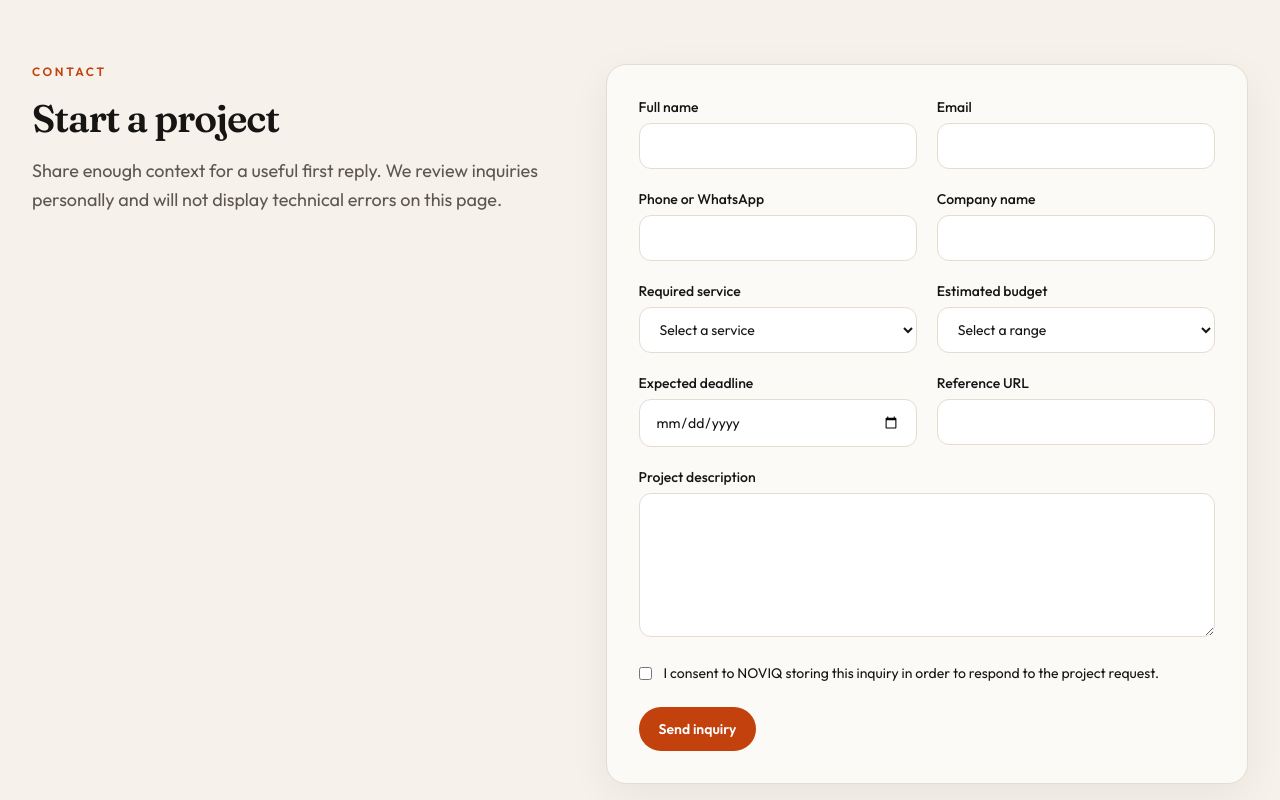
Test: Contact form validation › requires a project description and consent
The width and height of the screenshot is (1280, 800).
Click the button "Send inquiry": {"x": 698, "y": 729} [639,707,756,751]
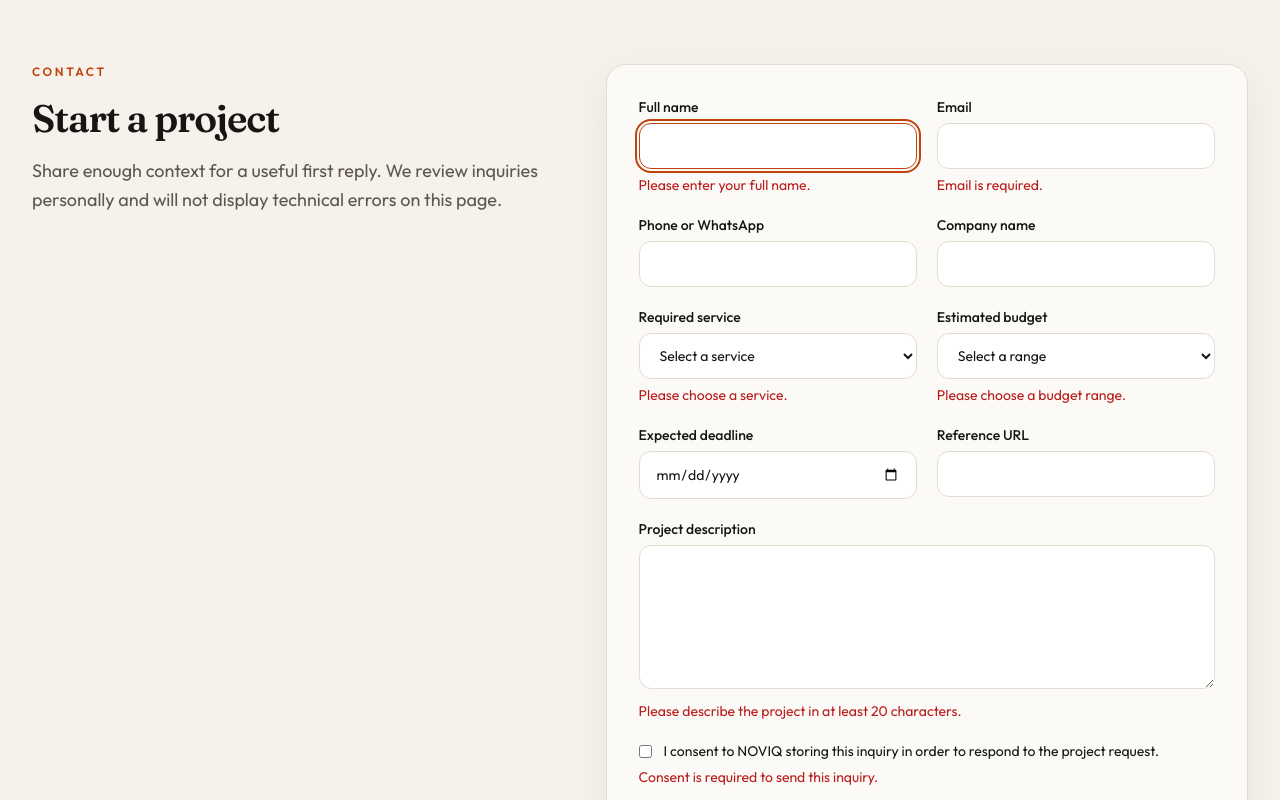
Expected: the text "Please enter your full name." is shown, [639,176,811,194]
Expected: the text "Please describe the project in at least 20 characters." is shown, [639,702,962,720]
Expected: the text "Consent is required to send this inquiry." is shown, [639,768,878,786]
